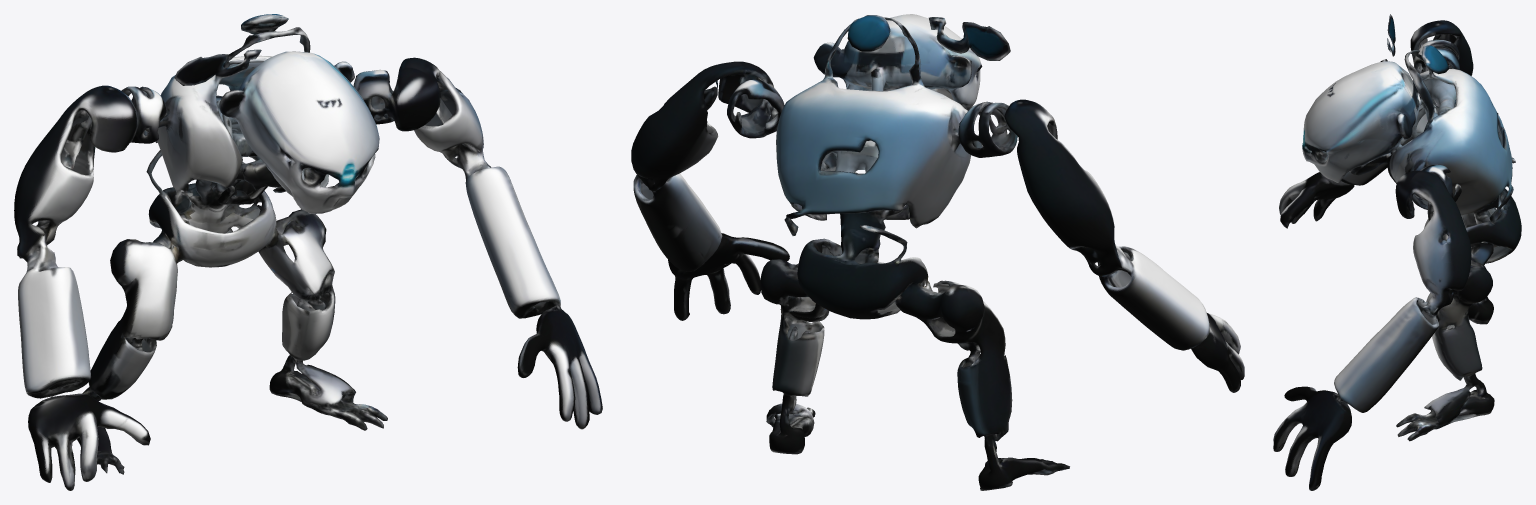
Rendered from Monkey_Ray_Design_1104041438.glb.
The picture shows the model from 3 angles, left to right: view 1: azimuth 30°, elevation 25°; view 2: azimuth 150°, elevation 25°; view 3: azimuth 270°, elevation 25°; orthographic projection. The views are drawn at different scales.
Size of the model in its own units: 1.98 by 1.45 by 0.9314.
1 material, 1 textured.
